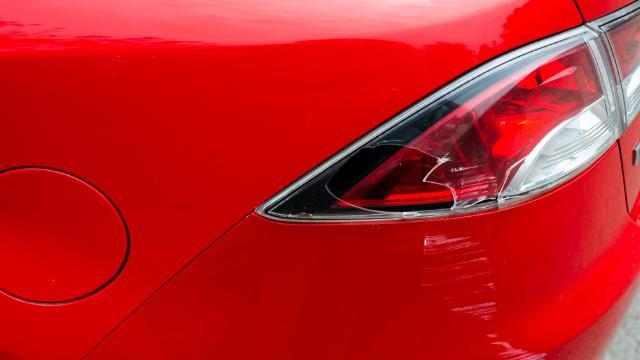lamp broken: (258, 25, 619, 222)
scratch: (421, 228, 559, 360)
